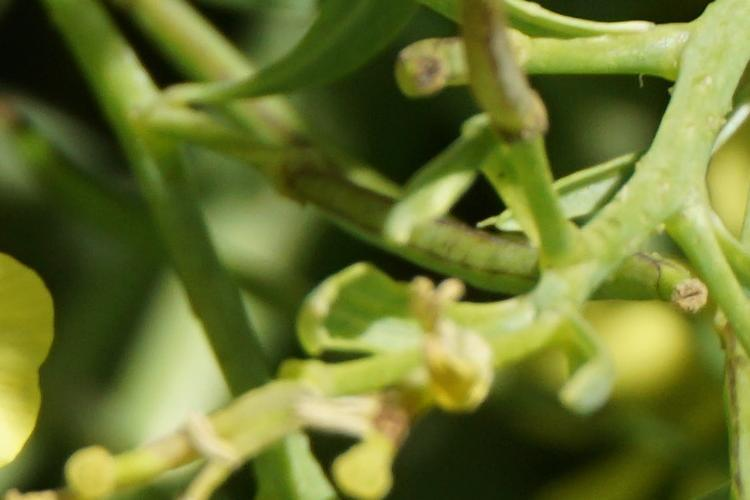pod: (315, 168, 715, 318), (386, 33, 715, 94), (458, 10, 563, 161)
